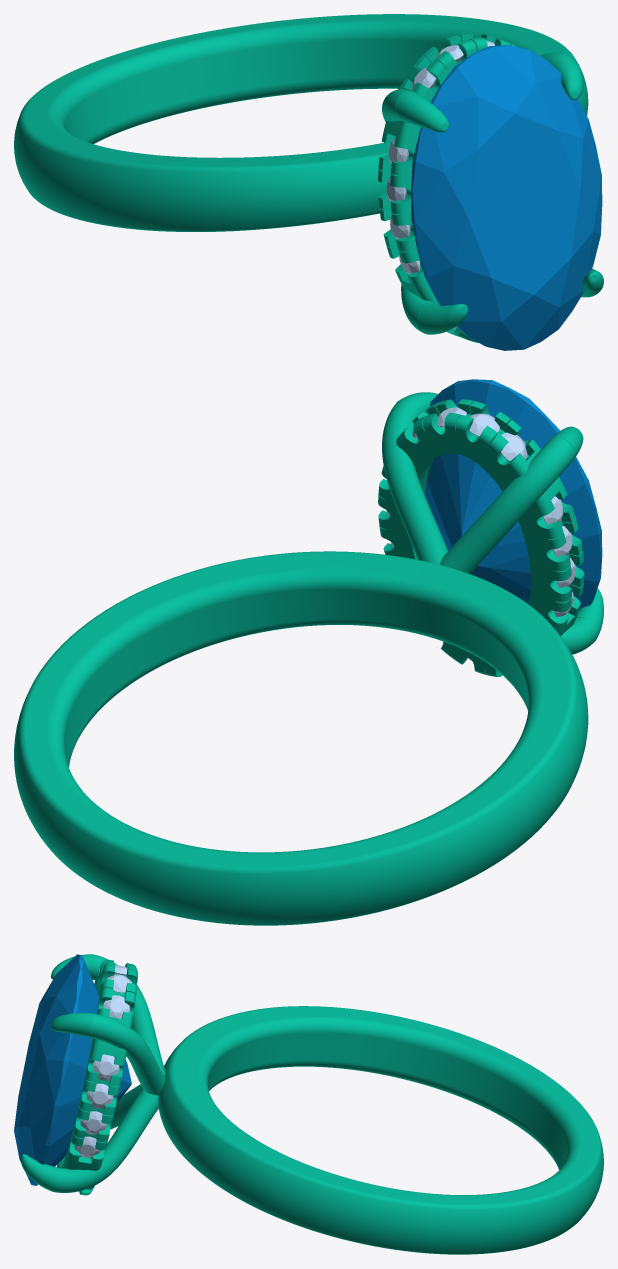
3 renders of one model, top to bottom at view 1: azimuth 30°, elevation 25°; view 2: azimuth 150°, elevation 25°; view 3: azimuth 270°, elevation 25°, orthographic. The views are drawn at different scales.
Parts seen in each view (by area): view 1: VR472(base).3dm, Diamond_Oval; view 2: VR472(base).3dm, Diamond_Oval; view 3: VR472(base).3dm, Diamond_Oval, Diamond_Round (×4).
Part boxes in pixels (x1,y1,x2,y2): VR472(base).3dm: (14,14,603,342); Diamond_Oval: (411,45,602,350); VR472(base).3dm: (14,392,603,925); Diamond_Oval: (425,379,602,609); VR472(base).3dm: (21,954,603,1254); Diamond_Oval: (14,954,131,1185); Diamond_Round (×4): (80,995,129,1134).
Bounding box in the file's own units: 2.3 × 1.31 × 2.99.
